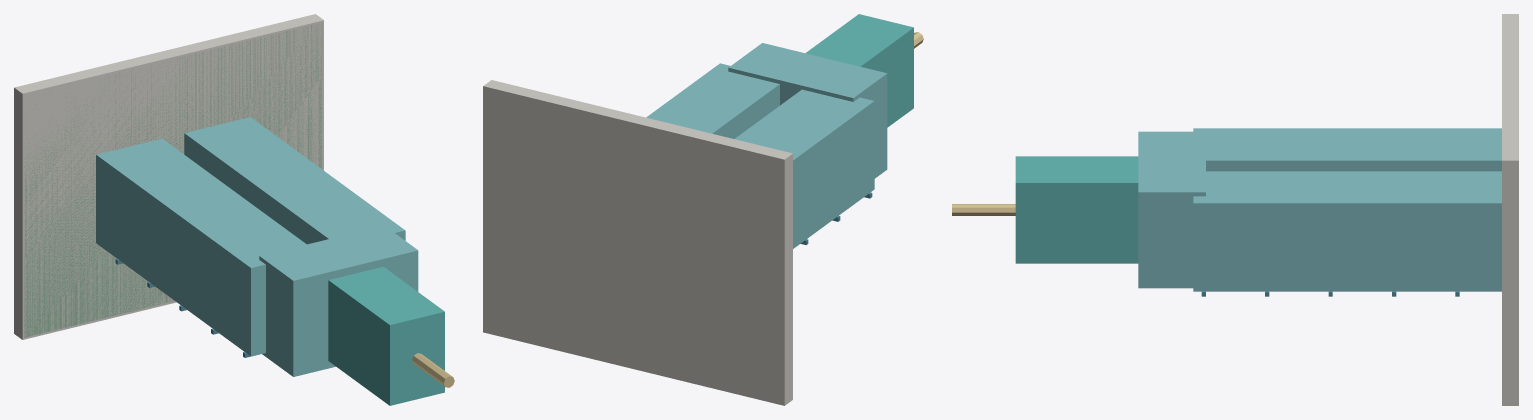
File: kaohsiung85.glb
The picture shows the model from 3 angles, left to right: view 1: azimuth 30°, elevation 25°; view 2: azimuth 150°, elevation 25°; view 3: azimuth 270°, elevation 25°; orthographic projection.
Parts seen in each view (by area): view 1: g0, g2, g1, g8, g15, g14, g16; view 2: g0, g2, g14, g8, g15; view 3: g8, g15, g2, g14, g0, g16.
Boxes of the visible parts, bbox=[...] form: g0: bbox=[14, 14, 323, 339]; g2: bbox=[96, 138, 306, 356]; g1: bbox=[24, 23, 322, 337]; g8: bbox=[184, 117, 405, 244]; g15: bbox=[328, 266, 444, 405]; g14: bbox=[259, 225, 418, 376]; g16: bbox=[412, 353, 454, 387]; g0: bbox=[483, 80, 792, 405]; g2: bbox=[734, 89, 874, 248]; g14: bbox=[728, 43, 887, 178]; g8: bbox=[646, 63, 779, 138]; g15: bbox=[805, 14, 913, 127]; g8: bbox=[1193, 171, 1501, 291]; g15: bbox=[1015, 156, 1138, 263]; g2: bbox=[1193, 128, 1501, 171]; g14: bbox=[1138, 131, 1205, 288]; g0: bbox=[1502, 14, 1518, 405]; g16: bbox=[952, 204, 1015, 215].
Size of the model in its own units: 82 by 64 by 134.
